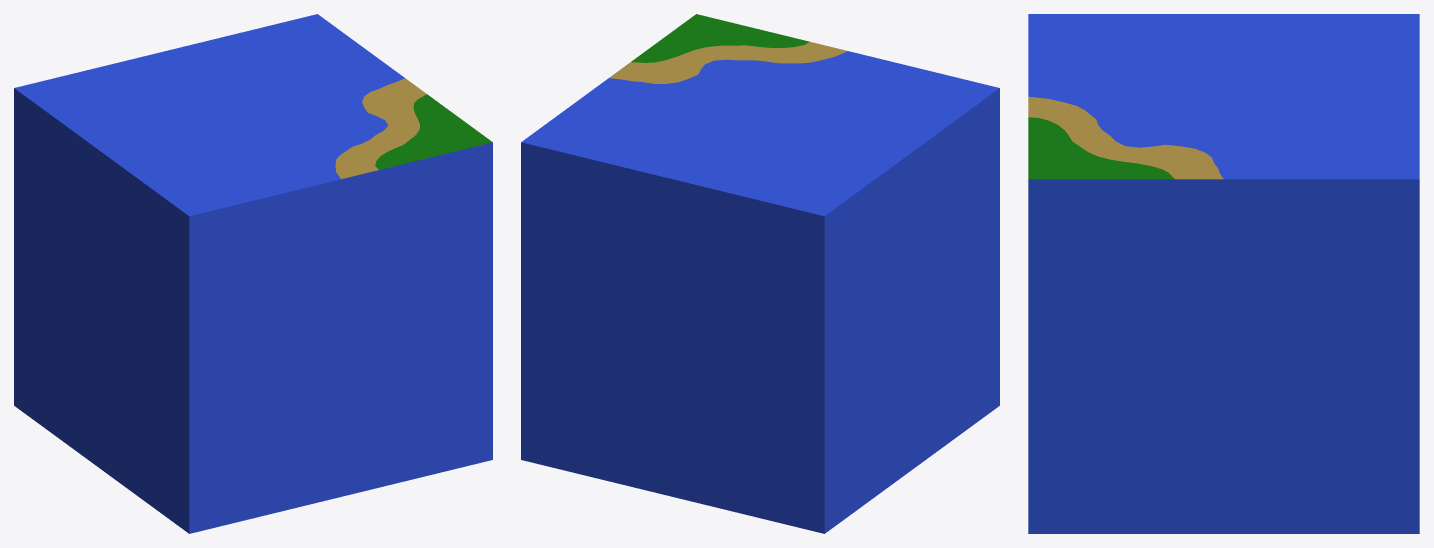
Rendered from CoastCorner1.fbx.
The picture shows the model from 3 angles, left to right: view 1: azimuth 30°, elevation 25°; view 2: azimuth 150°, elevation 25°; view 3: azimuth 270°, elevation 25°; orthographic projection. The views are drawn at different scales.
Parts seen in each view (by area): view 1: Cube.008; view 2: Cube.008; view 3: Cube.008.
Part boxes in pixels (<box>): Cube.008: <box>14,14,492,533</box>; Cube.008: <box>521,14,999,533</box>; Cube.008: <box>1028,14,1419,533</box>.
Bounding box in the file's own units: 100 × 100 × 100.
